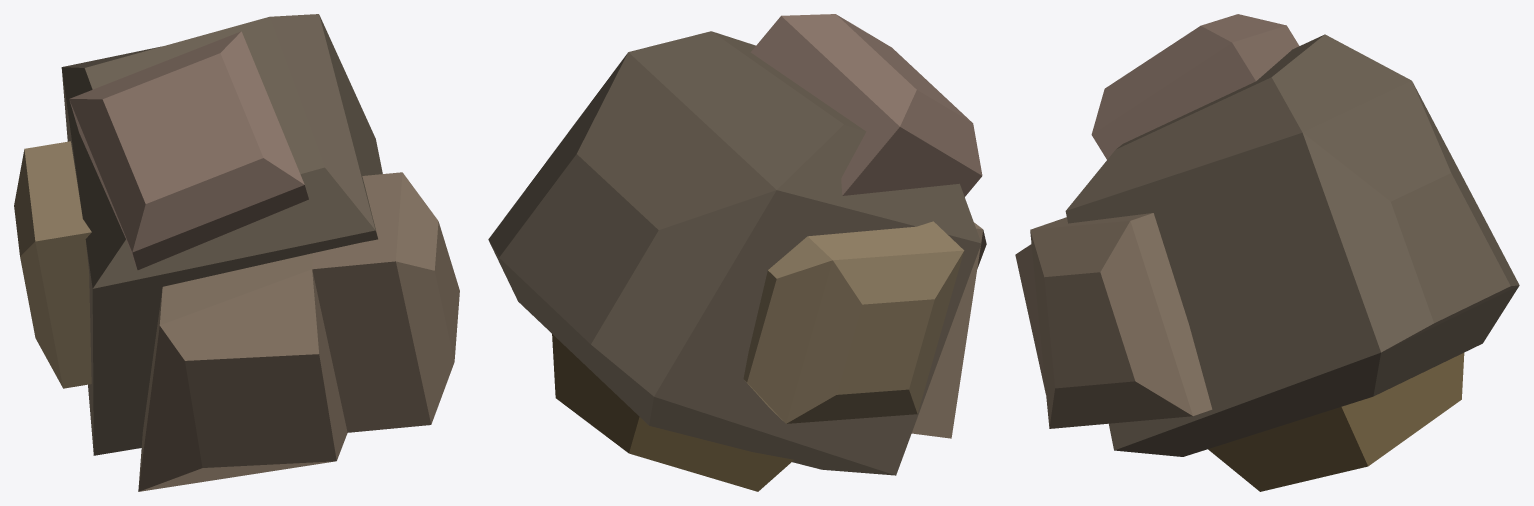
The model's file is rock.fbx.
3 renders of one model, left to right at view 1: azimuth 30°, elevation 25°; view 2: azimuth 150°, elevation 25°; view 3: azimuth 270°, elevation 25°, orthographic. The views are drawn at different scales.
Parts seen in each view (by area): view 1: Cube.004, Cube, Cube.001, Cube.003; view 2: Cube, Cube.003, Cube.001, Cube.002, Cube.004; view 3: Cube, Cube.004, Cube.002, Cube.001.
Part boxes in pixels (x1,y1,x2,y2): Cube.004: [138, 172, 459, 491]; Cube: [61, 14, 382, 455]; Cube.001: [69, 31, 308, 269]; Cube.003: [14, 141, 91, 388]; Cube: [488, 31, 981, 475]; Cube.003: [743, 221, 964, 423]; Cube.001: [750, 14, 982, 196]; Cube.002: [552, 334, 793, 491]; Cube.004: [911, 222, 986, 438]; Cube: [1065, 34, 1519, 456]; Cube.004: [1015, 213, 1212, 428]; Cube.002: [1208, 353, 1464, 491]; Cube.001: [1091, 14, 1299, 159].
Size of the model in its own units: 206 by 206 by 228.
